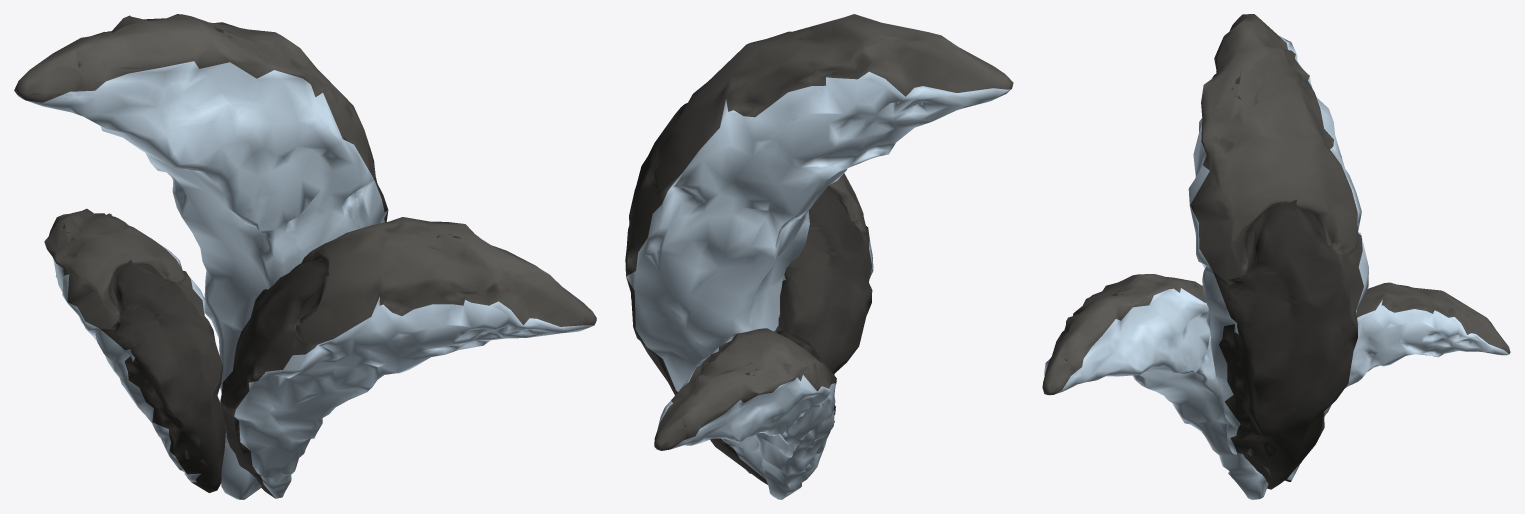
The model's file is splinter_b.obj.
The picture shows the model from 3 angles, left to right: view 1: azimuth 30°, elevation 25°; view 2: azimuth 150°, elevation 25°; view 3: azimuth 270°, elevation 25°; orthographic projection. The views are drawn at different scales.
Parts seen in each view (by area): view 1: splinter_b; view 2: splinter_b; view 3: splinter_b.
Boxes of the visible parts, x1,y1,x2,y2 form: splinter_b: [14, 14, 596, 499]; splinter_b: [625, 14, 1013, 499]; splinter_b: [1042, 14, 1510, 499].
Bounding box in the file's own units: 0.3767 × 0.4 × 0.4196.
Materials: 1 (1 with a texture image).
